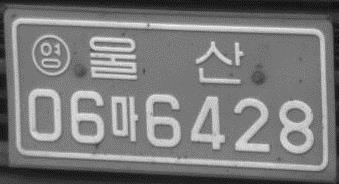0: (25, 87, 64, 143)
2: (231, 95, 271, 154)
4: (187, 94, 225, 152)
6: (144, 92, 182, 148), (68, 89, 106, 144)
8: (277, 98, 315, 155)
마: (108, 94, 140, 143)
영: (31, 32, 71, 77)
울산_D: (86, 33, 246, 86)
